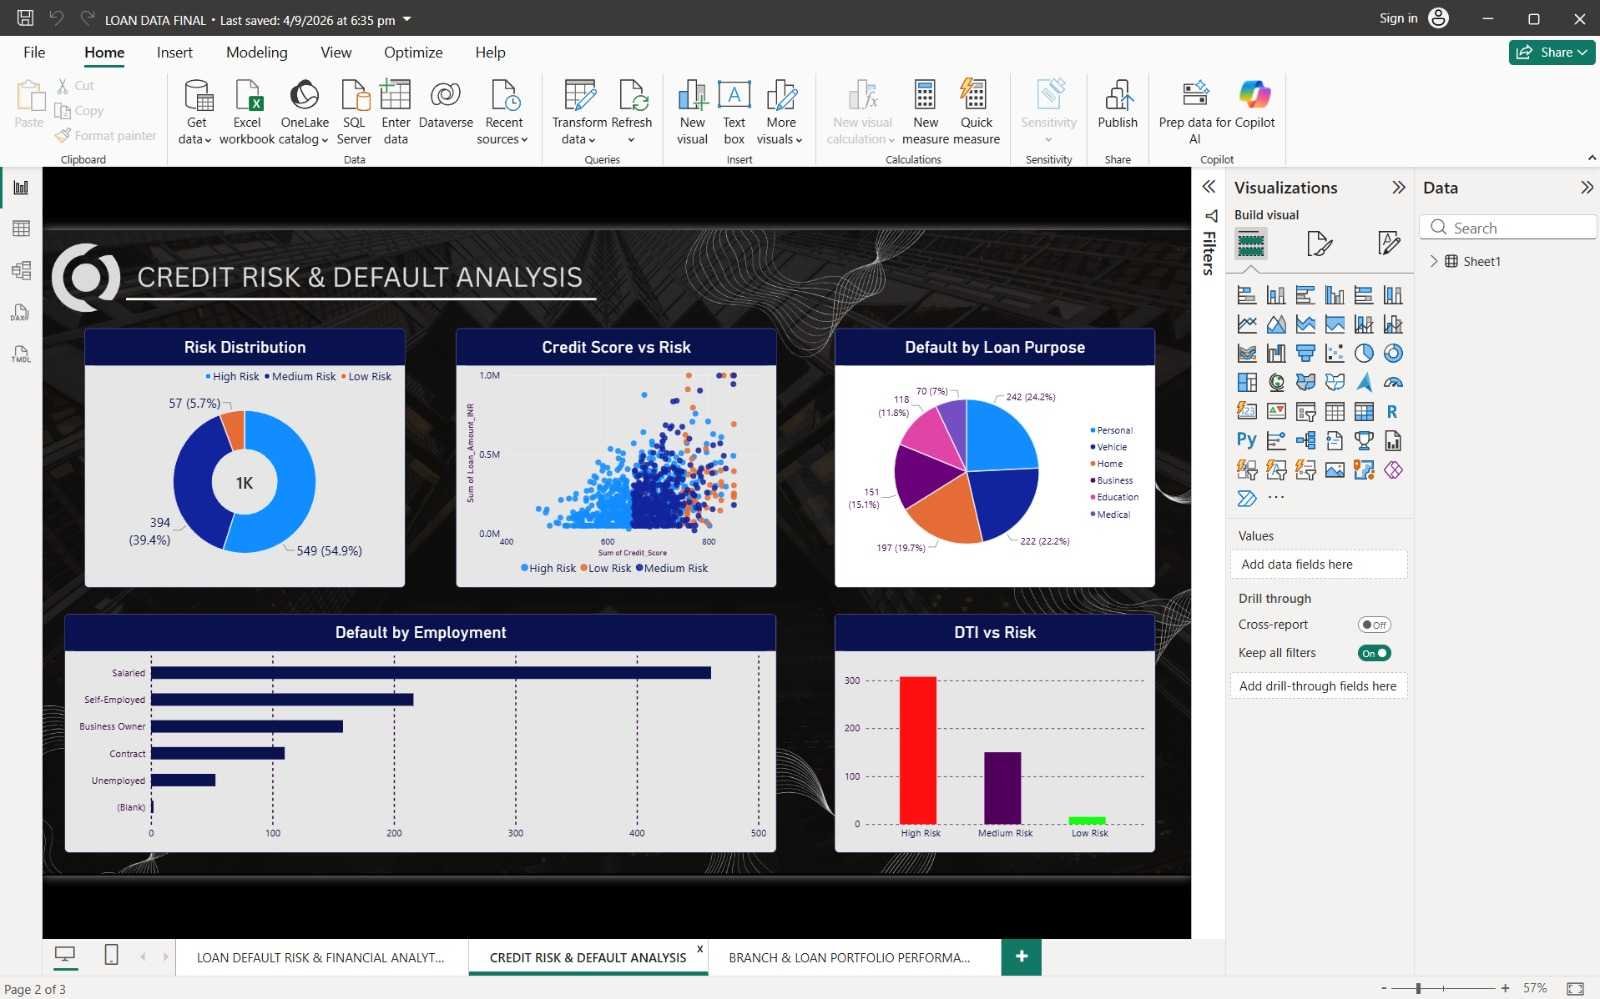

The dashboard page shown, as its layout file describes it:
{"tool":"powerbi","page":{"name":"CREDIT RISK & DEFAULT ANALYSIS","canvas":[1920,1080],"ordinal":1},"visuals":[{"type":"donutChart","title":"Risk Distribution","fields":{"Category":["Sheet1.Risk_Category"],"Y":["CountNonNull(Sheet1.Application_ID)"]},"box":[69.2,163.5,536.5,434.6],"z":0},{"type":"scatterChart","title":" Credit Score vs Risk","fields":{"Category":["Sheet1.Application_ID"],"Series":["Sheet1.Risk_Category"],"X":["Sum(Sheet1.Credit_Score)"],"Y":["Sum(Sheet1.Loan_Amount_INR)"]},"box":[690.4,163.5,536.5,434.6],"z":1},{"type":"columnChart","title":"DTI vs Risk","fields":{"Category":["Sheet1.Risk_Category"],"Y":["Sum(Sheet1.Debt_to_Income_Ratio)"]},"box":[1323.1,642.3,536.5,400],"z":2},{"type":"barChart","title":" Default by Employment","fields":{"Category":["Sheet1.Employment"],"Y":["CountNonNull(Sheet1.Default_Status)"]},"box":[36.5,642.3,1190.4,400],"z":3},{"type":"pieChart","title":" Default by Loan Purpose","fields":{"Category":["Sheet1.Loan_Purpose"],"Y":["CountNonNull(Sheet1.Risk_Category)"]},"box":[1323.1,163.5,536.5,434.6],"z":4},{"type":"shape","box":[140.4,0,786.5,230.8],"z":5}]}

Visuals, with their boxes on the page's 1920x1080 design canvas (x1, y1, x2, y2). These are canvas units, not pixel positions in the 1600x999 screenshot, which may show the page scaled, cropped or inside an application window:
"Risk Distribution" donutChart: 69, 164, 606, 598
" Credit Score vs Risk" scatterChart: 690, 164, 1227, 598
"DTI vs Risk" columnChart: 1323, 642, 1860, 1042
" Default by Employment" barChart: 36, 642, 1227, 1042
" Default by Loan Purpose" pieChart: 1323, 164, 1860, 598
shape: 140, 0, 927, 231
